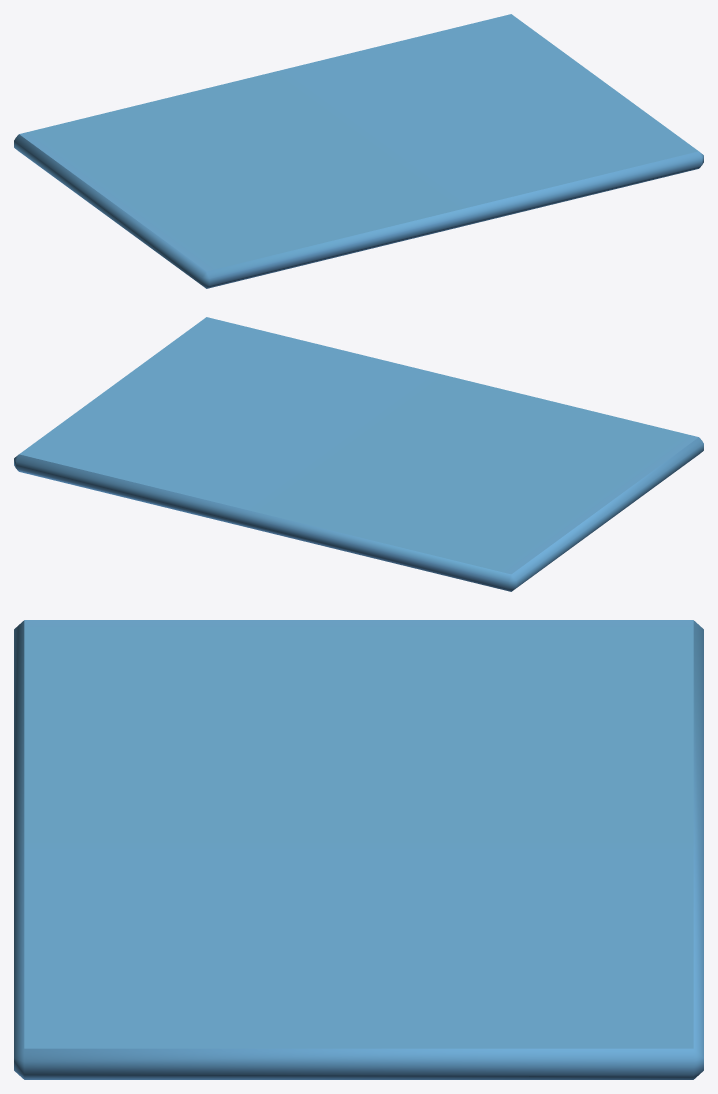
Rendered from rug_rectangle_B.glb.
3 renders of one model, top to bottom at view 1: azimuth 30°, elevation 25°; view 2: azimuth 150°, elevation 25°; view 3: azimuth 270°, elevation 25°, orthographic. The views are drawn at different scales.
Visible parts, largest first — view 1: rug_rectangle_B; view 2: rug_rectangle_B; view 3: rug_rectangle_B.
Boxes of the visible parts, x1=… form: rug_rectangle_B: x1=14, y1=14, x2=703, y2=288; rug_rectangle_B: x1=14, y1=317, x2=703, y2=591; rug_rectangle_B: x1=14, y1=620, x2=703, y2=1079.
Size of the model in its own units: 3 by 0.1 by 2.
1 material, 1 textured.
